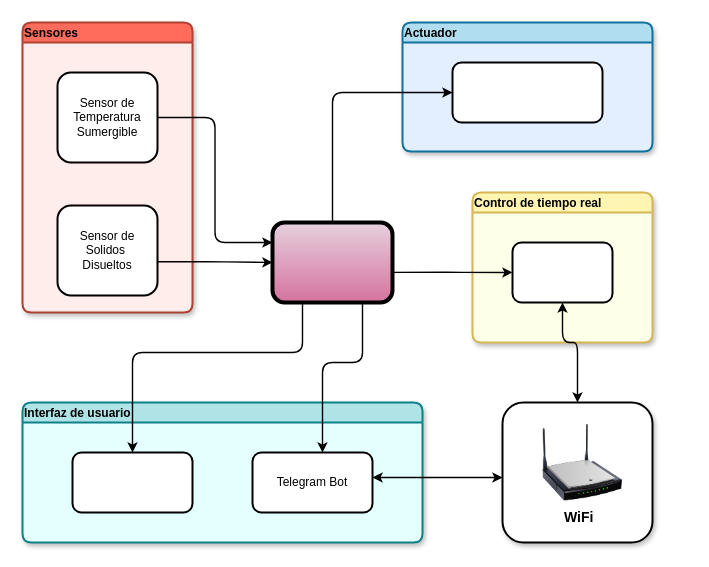
This 709x567 diagram has some shape labels left out. The centre of each missing label's shape, as x and y in pixels:
Display LCD: the point at 132,482
Modulo de Tiempo Real: the point at 562,272
Nucleo F429ZI: the point at 332,262
Vertedor de alimento: the point at 527,92
